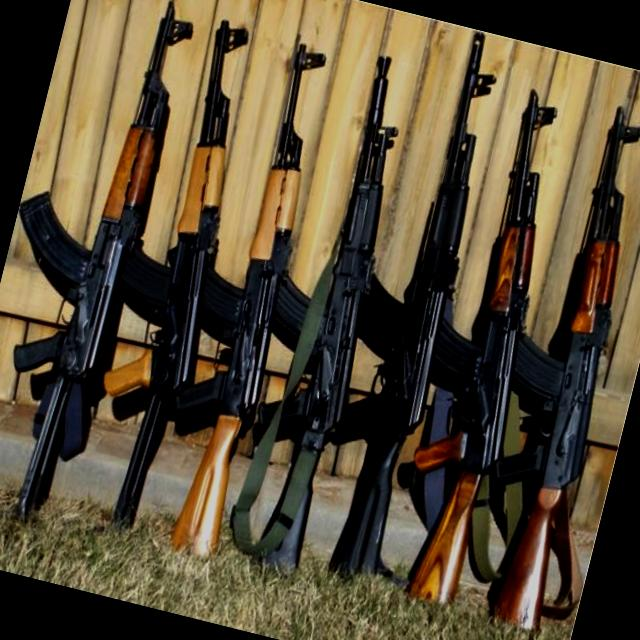ak: (291, 20, 514, 595), (208, 41, 434, 580), (130, 34, 352, 563), (374, 89, 598, 609), (56, 10, 272, 532), (0, 0, 204, 533), (444, 89, 640, 640)
